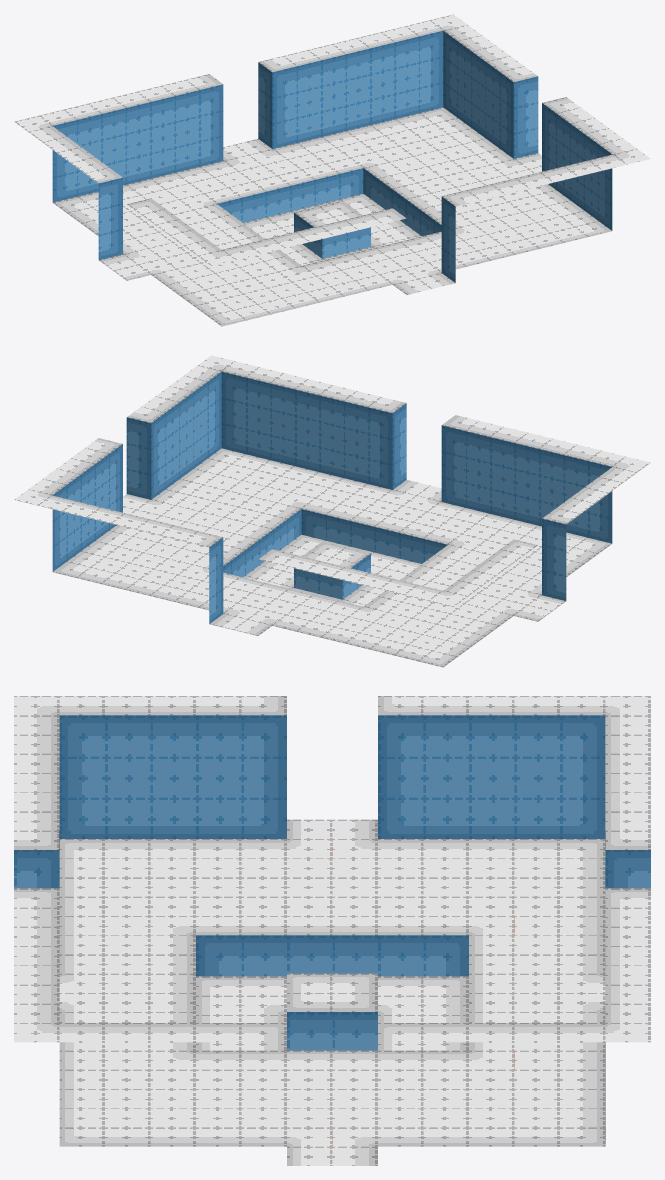
Rendered from dungeon-demo.glb.
3 views of the same model, one above another, from view 1: azimuth 30°, elevation 25°; view 2: azimuth 150°, elevation 25°; view 3: azimuth 270°, elevation 25° (orthographic). The views are drawn at different scales.
Parts seen in each view (by area): view 1: Environment-Fixed; view 2: Environment-Fixed; view 3: Environment-Fixed.
Part boxes in pixels (left/top/right/bottom): Environment-Fixed: left=14, top=14, right=650, bottom=326; Environment-Fixed: left=14, top=355, right=650, bottom=667; Environment-Fixed: left=14, top=696, right=650, bottom=1165.
Size of the model in its own units: 18 by 4 by 14.
Materials: 1 (1 with a texture image).
